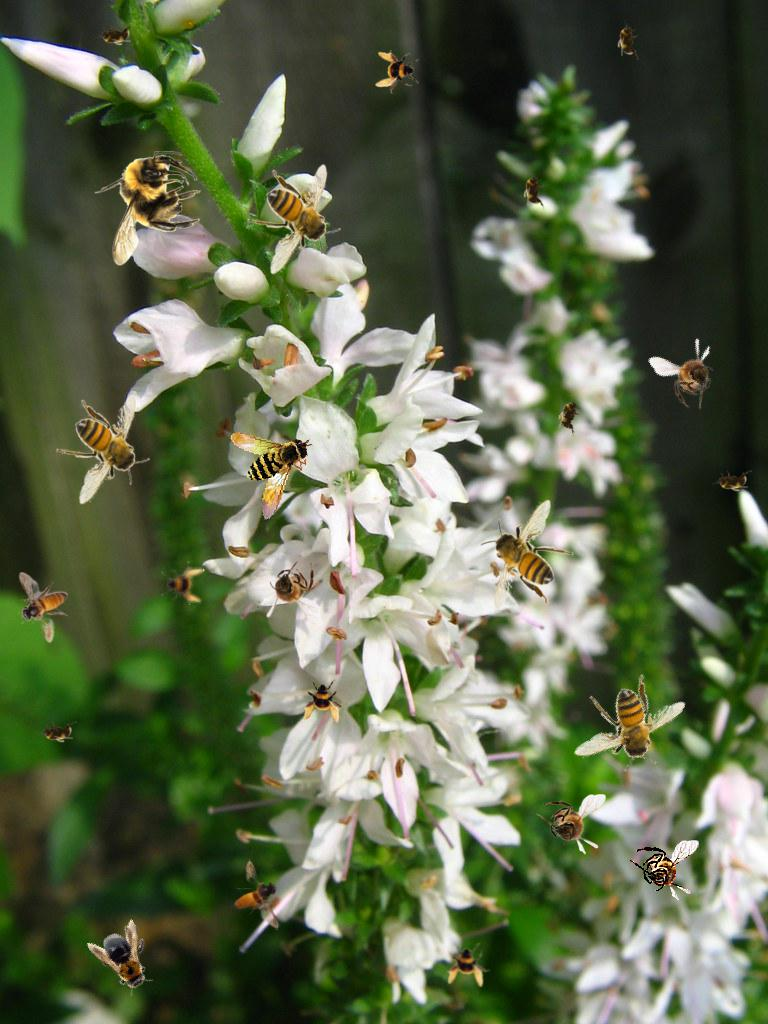Bee: (554, 653, 699, 799), (94, 151, 201, 266), (247, 164, 341, 275), (56, 394, 150, 505), (480, 499, 574, 610), (216, 423, 314, 527), (647, 328, 736, 420), (86, 917, 166, 1003), (536, 794, 606, 855), (260, 555, 321, 625), (629, 840, 699, 901), (18, 572, 68, 643), (231, 859, 281, 930), (302, 679, 346, 723), (161, 561, 205, 605), (375, 50, 419, 94), (446, 943, 490, 987), (553, 392, 587, 438), (523, 170, 545, 210), (37, 721, 77, 743), (617, 20, 639, 60), (95, 24, 135, 46), (712, 470, 752, 492)
